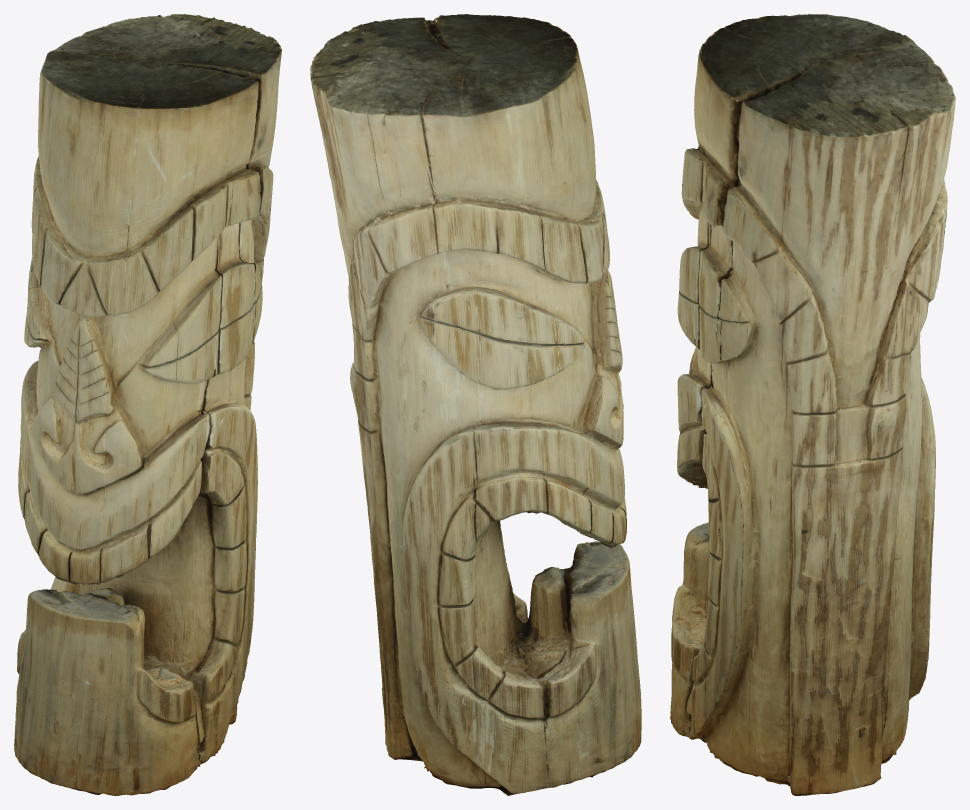
The model's file is tiki.glb.
3 renders of one model, left to right at view 1: azimuth 30°, elevation 25°; view 2: azimuth 150°, elevation 25°; view 3: azimuth 270°, elevation 25°, orthographic. The views are drawn at different scales.
Parts seen in each view (by area): view 1: Object_4, Object_3, Object_5, Object_2; view 2: Object_3, Object_5, Object_4, Object_2; view 3: Object_2, Object_4, Object_5, Object_3.
Part boxes in pixels (bbox=[...]): Object_4: bbox=[34, 14, 281, 795]; Object_3: bbox=[14, 27, 265, 774]; Object_5: bbox=[18, 171, 261, 723]; Object_2: bbox=[24, 15, 281, 725]; Object_3: bbox=[330, 24, 636, 794]; Object_5: bbox=[394, 418, 629, 795]; Object_4: bbox=[310, 14, 641, 790]; Object_2: bbox=[310, 19, 623, 759]; Object_2: bbox=[699, 90, 950, 795]; Object_4: bbox=[670, 14, 955, 795]; Object_5: bbox=[671, 186, 935, 713]; Object_3: bbox=[681, 44, 955, 715].
Size of the model in its own units: 2 by 4.8 by 1.75.
Materials: 4 (4 with a texture image).
